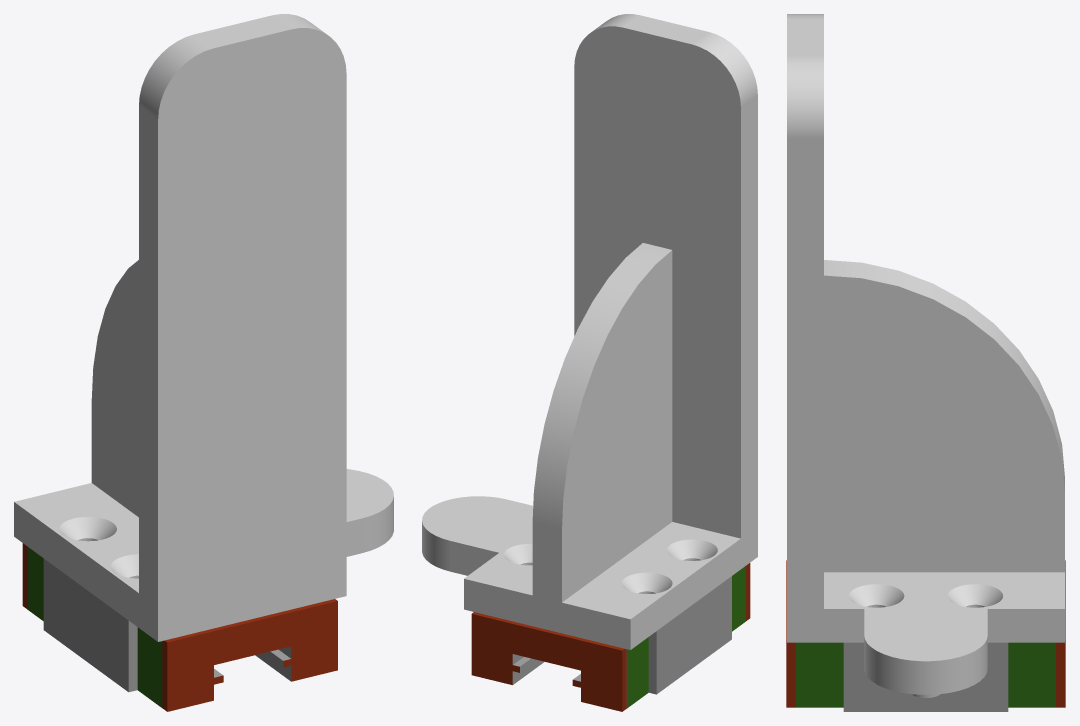
File: finger.dae
The picture shows the model from 3 angles, left to right: view 1: azimuth 30°, elevation 25°; view 2: azimuth 150°, elevation 25°; view 3: azimuth 270°, elevation 25°; orthographic projection. The views are drawn at different scales.
Parts seen in each view (by area): view 1: gripper_finger, Slide block; view 2: gripper_finger, Slide block; view 3: gripper_finger, Slide block.
Boxes of the visible parts, x1=… form: gripper_finger: x1=14, y1=14, x2=393, y2=641; Slide block: x1=22, y1=543, x2=337, y2=711; gripper_finger: x1=422, y1=14, x2=757, y2=649; Slide block: x1=471, y1=563, x2=750, y2=711; gripper_finger: x1=787, y1=14, x2=1064, y2=697; Slide block: x1=786, y1=560, x2=1065, y2=711.
Bounding box in the file's own units: 0.027 × 0.0226 × 0.0562.
